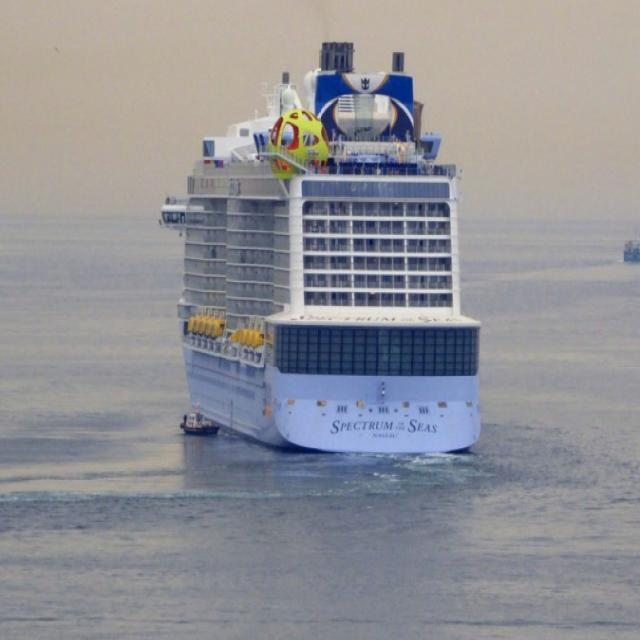cruises: (151, 25, 491, 467)
